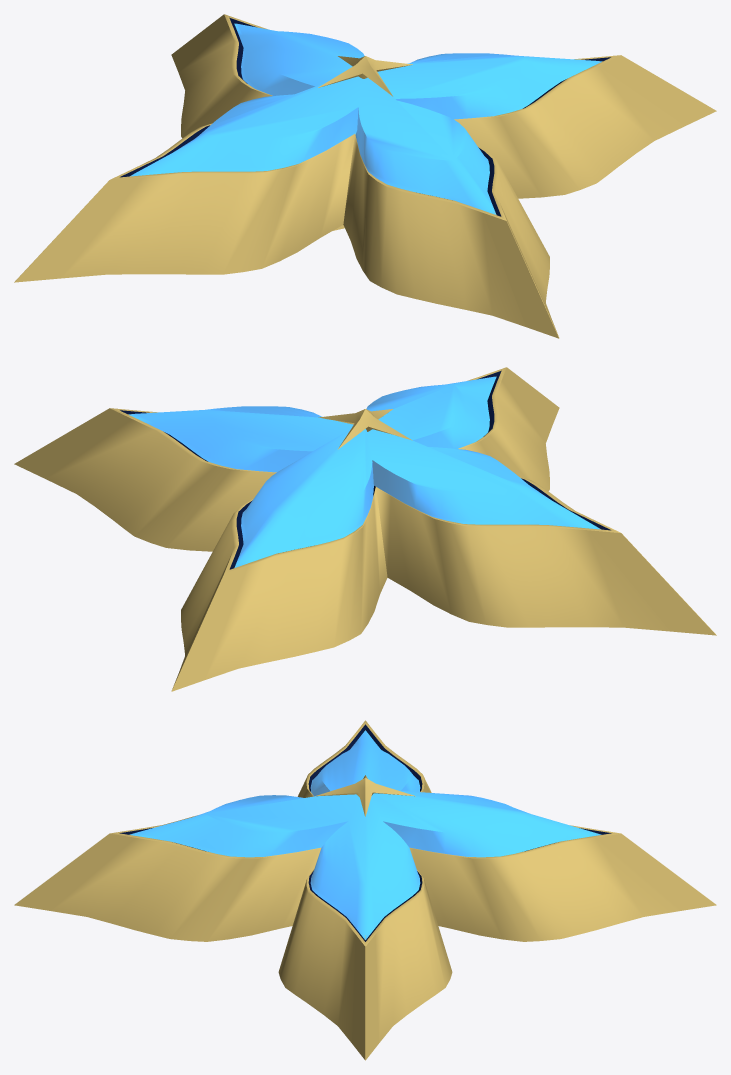
Rendered from Flower Accessory.glb.
3 views of the same model, one above another, from view 1: azimuth 30°, elevation 25°; view 2: azimuth 150°, elevation 25°; view 3: azimuth 270°, elevation 25° (orthographic). The views are drawn at different scales.
Visible parts, largest first — view 1: Main_0, Star_1; view 2: Main_0, Star_1; view 3: Main_0, Star_1.
Boxes of the visible parts, x1=… form: Main_0: x1=14, y1=14, x2=716, y2=338; Star_1: x1=318, y1=56, x2=412, y2=96; Main_0: x1=14, y1=367, x2=716, y2=691; Star_1: x1=318, y1=409, x2=412, y2=449; Main_0: x1=14, y1=720, x2=716, y2=1060; Star_1: x1=315, y1=775, x2=415, y2=816.
Size of the model in its own units: 5.67 by 1.09 by 5.42.
